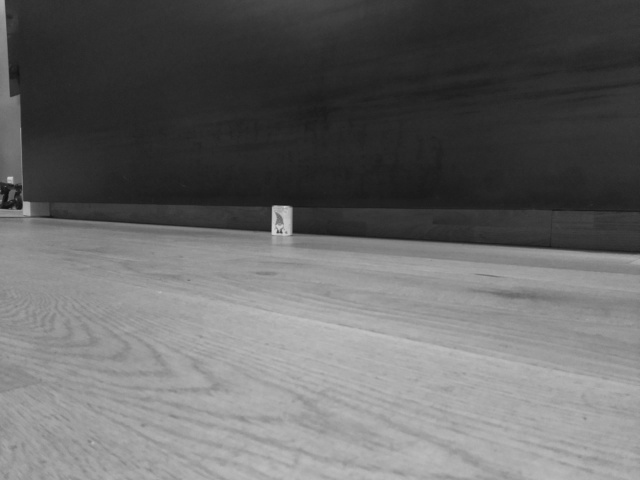gnome: (273, 210, 289, 234)
